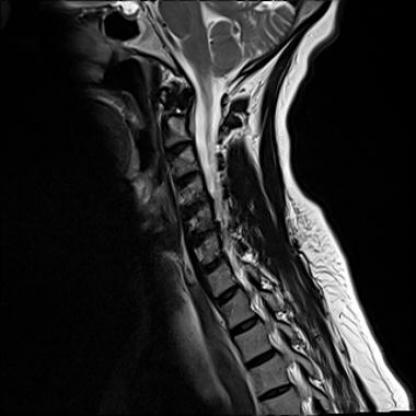Osteophytesrotation: (185, 228, 220, 245), (178, 199, 211, 215)
